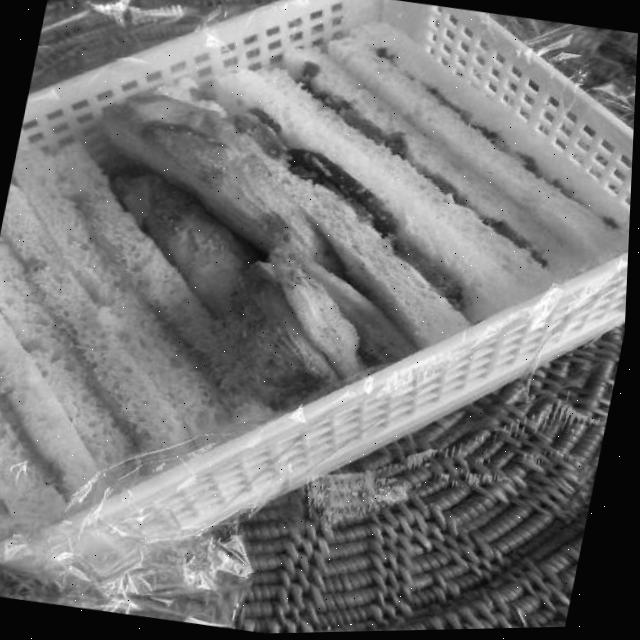三明治: (0, 1, 596, 522)
